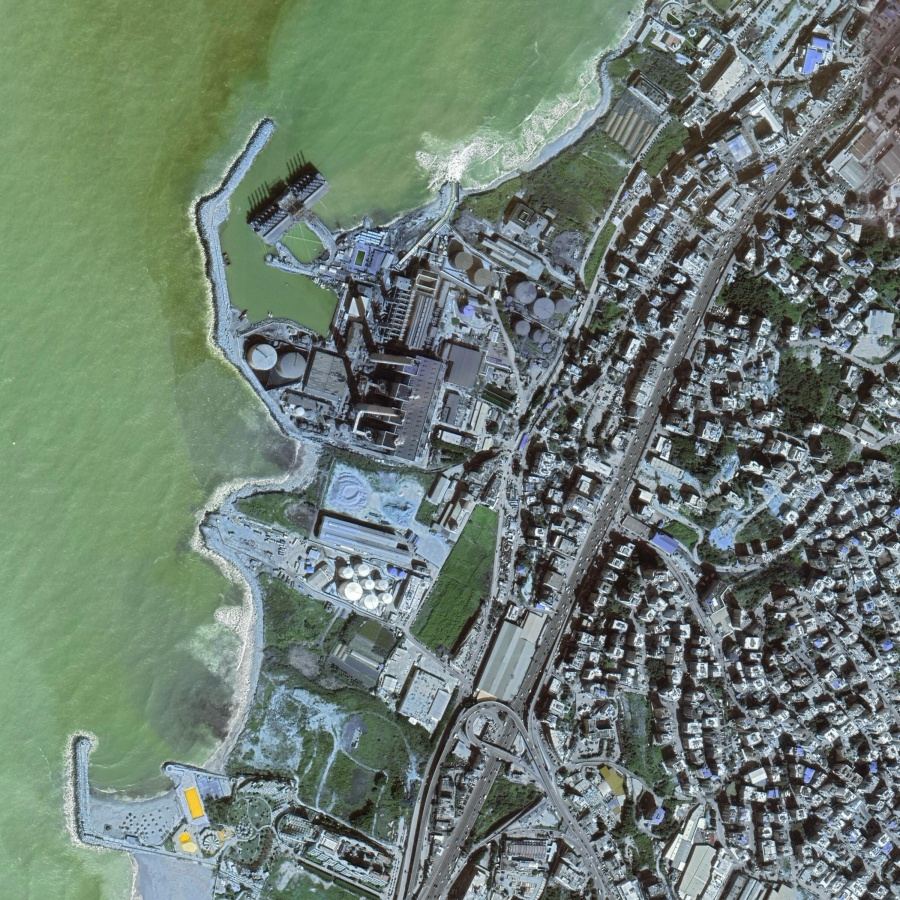PowerPlant: (235, 176, 580, 607)
